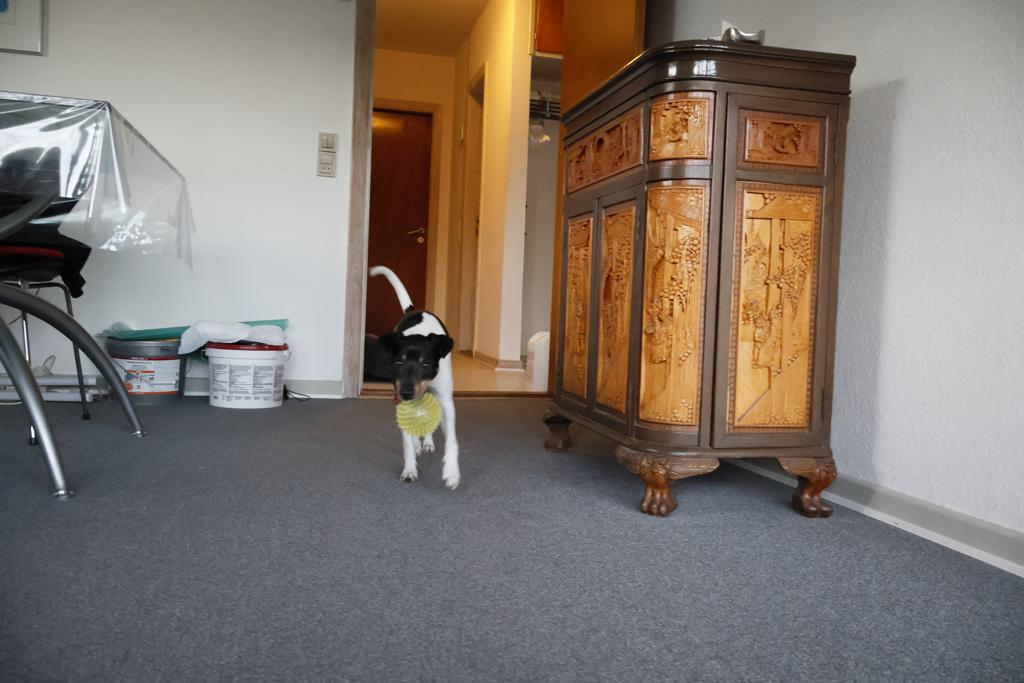Dog: (363, 261, 467, 494)
